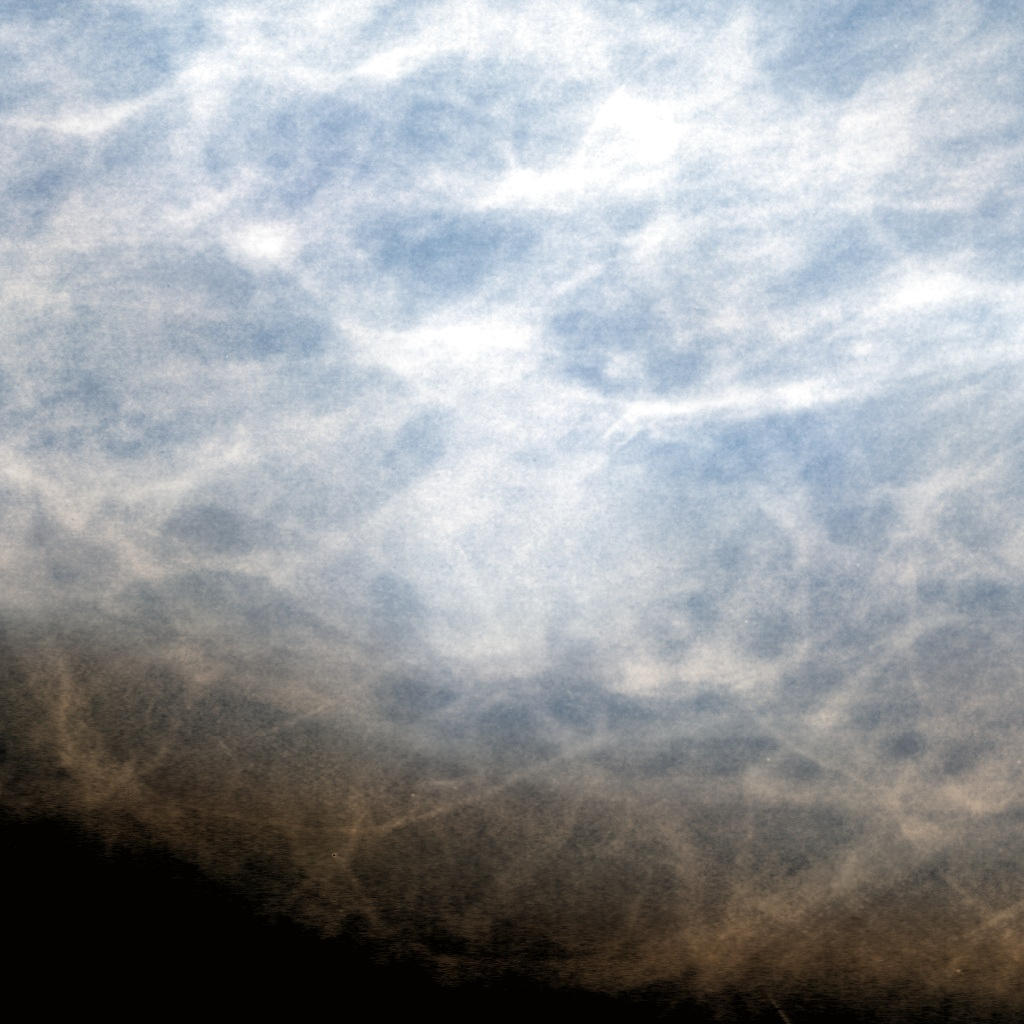tumor: (309, 343, 715, 681)
